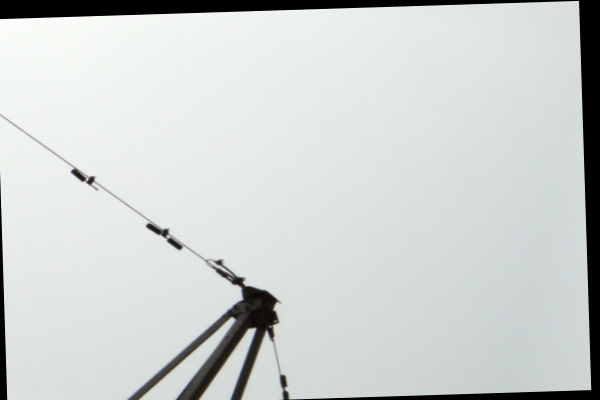damper: (142, 220, 183, 251)
damper_defect: (68, 168, 99, 190)
